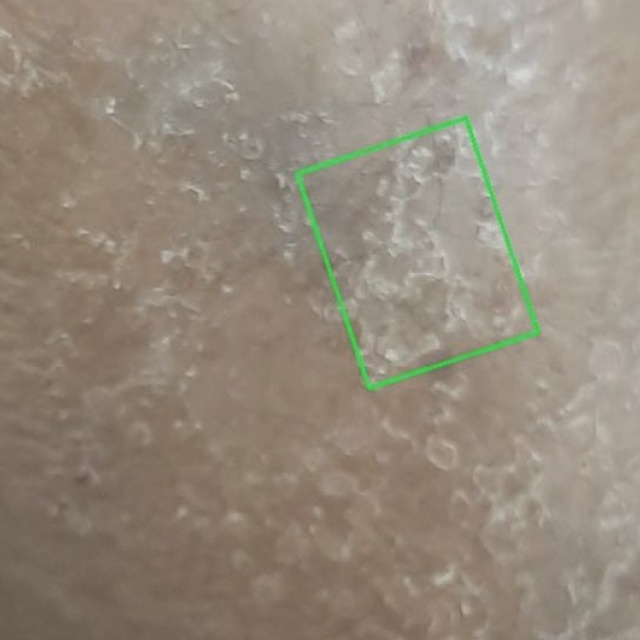Eczema: (296, 118, 537, 388)
